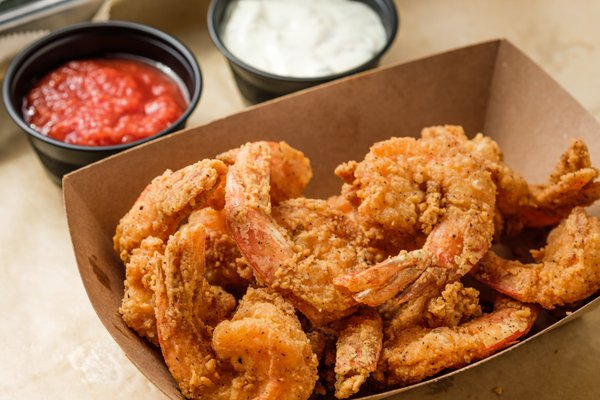sushi: (1, 19, 203, 172), (206, 0, 399, 100)
